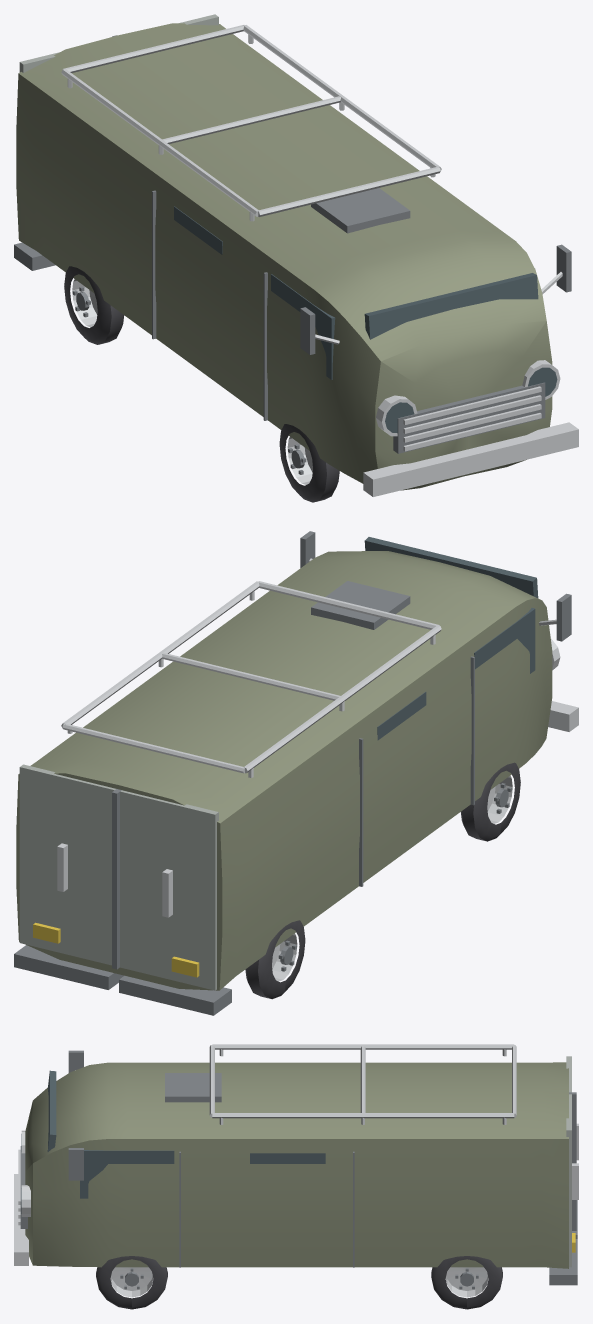
Rendered from cold-war-missile-silo-and-command-bunker-crew-van-8c03db5c__15685.glb.
3 views of the same model, one above another, from view 1: azimuth 30°, elevation 25°; view 2: azimuth 150°, elevation 25°; view 3: azimuth 270°, elevation 25° (orthographic). The views are drawn at different scales.
Parts seen in each view (by area): view 1: crew-van, wheel-front-left, wheel-rear-left; view 2: crew-van, wheel-front-left, wheel-rear-left; view 3: crew-van, wheel-front-right (×2), wheel-rear-right (×2).
Part boxes in pixels (box(x1,y1,x2,y2)): crew-van: box(14, 14, 578, 496); wheel-front-left: box(279, 424, 339, 502); wheel-rear-left: box(64, 266, 124, 344); crew-van: box(14, 531, 578, 1015); wheel-front-left: box(461, 762, 520, 841); wheel-rear-left: box(245, 920, 305, 999); crew-van: box(14, 1044, 578, 1285); wheel-front-right (×2): box(96, 1256, 167, 1309); wheel-rear-right (×2): box(431, 1256, 502, 1309).
Bounding box in the file's own units: 2.49 × 2.26 × 5.98.
